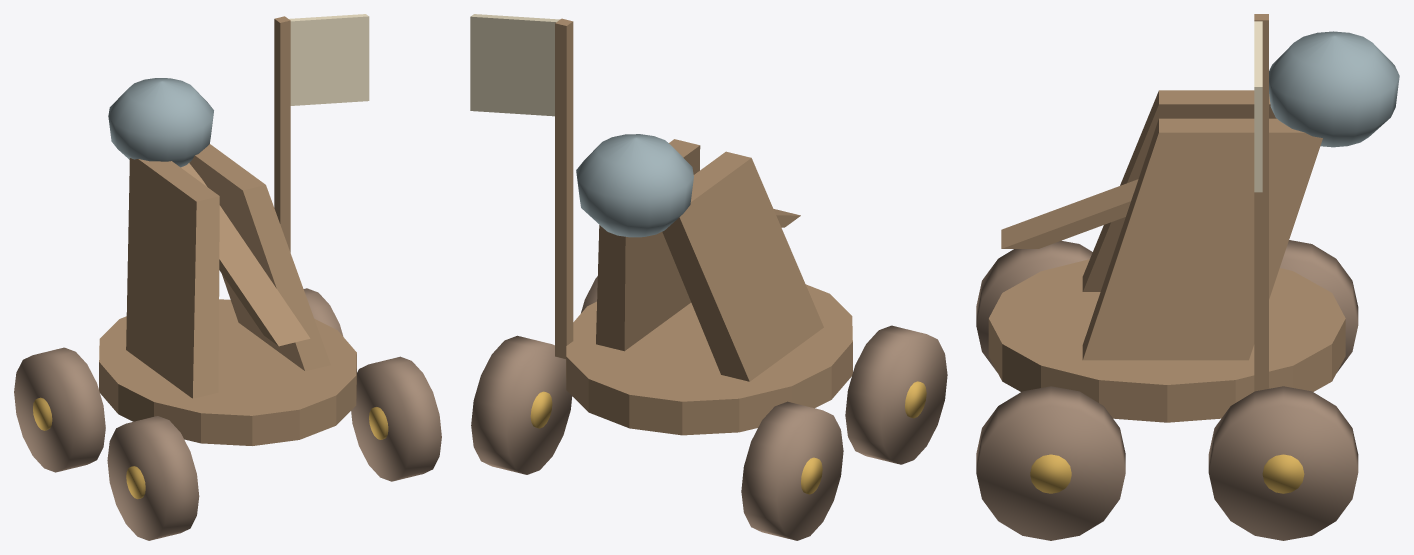
File: catapult.glb
3 renders of one model, left to right at view 1: azimuth 30°, elevation 25°; view 2: azimuth 150°, elevation 25°; view 3: azimuth 270°, elevation 25°, orthographic. The views are drawn at different scales.
Visible parts, largest first — view 1: Siege deck, A frame, A frame.001, Wheel carved rim, Wheel carved rim.001, Wheel carved rim.002, Sling stone, Regional siege banner, Throwing arm, Flagpole, Wheel carved rim.003, Wheel hub (+2 smaller); view 2: Siege deck, A frame, Wheel carved rim.001, Wheel carved rim, Wheel carved rim.003, Sling stone, A frame.001, Regional siege banner, Flagpole, Wheel hub.001, Wheel hub, Wheel hub.003; view 3: A frame.001, Siege deck, Wheel carved rim.003, Wheel carved rim.002, Sling stone, A frame, Flagpole, Throwing arm, Wheel carved rim, Wheel carved rim.001, Regional siege banner, Wheel hub.003 (+1 smaller).
Boxes of the visible parts, x1,y1,x2,y2 form: Siege deck: (99,299,356,445); A frame: (126,158,219,398); A frame.001: (189,144,330,371); Wheel carved rim: (107,416,199,540); Wheel carved rim.001: (14,347,105,472); Wheel carved rim.002: (351,356,441,481); Sling stone: (108,78,213,167); Regional siege banner: (289,14,369,105); Throwing arm: (181,163,310,346); Flagpole: (274,16,290,252); Wheel carved rim.003: (303,288,343,336); Wheel hub: (126,466,145,499); Siege deck: (566,284,852,435); A frame: (662,151,823,381); Wheel carved rim.001: (741,401,843,540); Wheel carved rim: (845,325,947,464); Wheel carved rim.003: (471,335,572,474); Sling stone: (576,134,693,237); A frame.001: (596,139,700,351); Regional siege banner: (470,14,559,116); Flagpole: (555,18,573,358); Wheel hub.001: (801,457,822,494); Wheel hub: (905,381,926,418); Wheel hub.003: (530,391,552,428); A frame.001: (1082,118,1322,360); Siege deck: (988,259,1345,422); Wheel carved rim.003: (1208,386,1358,540); Wheel carved rim.002: (976,386,1125,540); Sling stone: (1269,31,1399,147); A frame: (1082,90,1276,291); Flagpole: (1254,14,1268,391); Throwing arm: (1001,179,1138,248); Wheel carved rim: (976,240,1092,372); Wheel carved rim.001: (1280,240,1358,372); Regional siege banner: (1254,21,1262,192); Wheel hub.003: (1262,454,1304,493).
Bounding box in the file's own units: 1.09 × 1.32 × 1.02.
